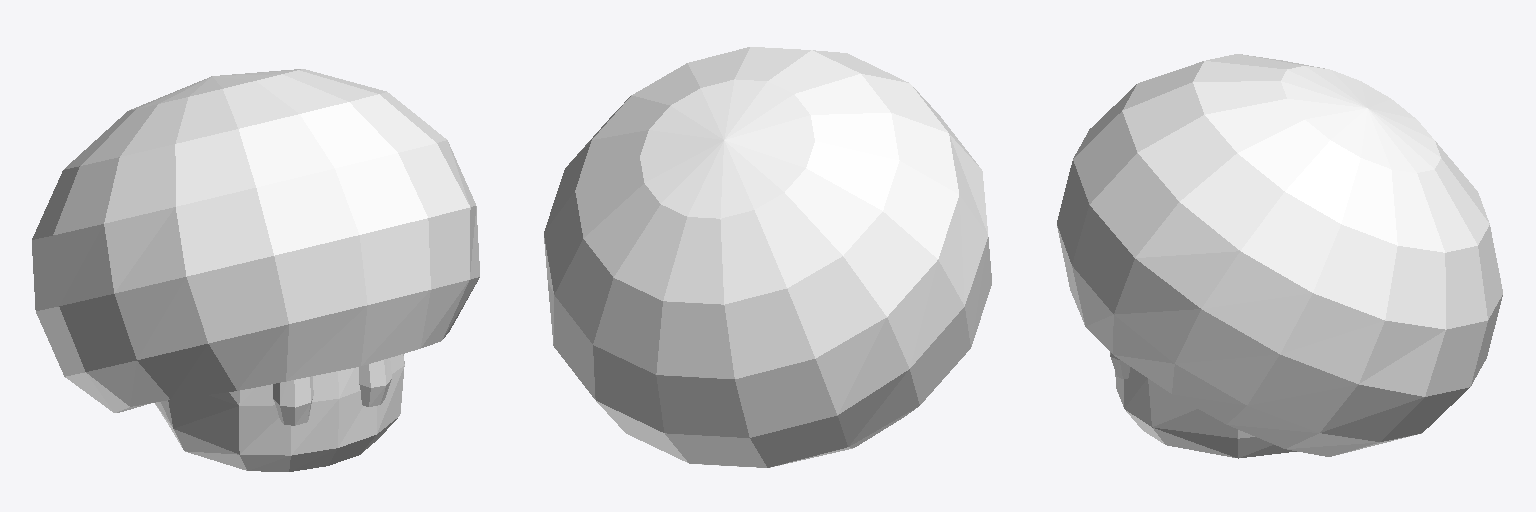
File: big.obj
3 views of the same model, side by side, from view 1: azimuth 30°, elevation 25°; view 2: azimuth 150°, elevation 25°; view 3: azimuth 270°, elevation 25° (orthographic).
Parts seen in each view (by area): view 1: mesh0114; view 2: mesh0114; view 3: mesh0114.
Boxes of the visible parts, <box> form: mesh0114: <box>32,69,479,471</box>; mesh0114: <box>544,47,991,467</box>; mesh0114: <box>1057,54,1502,458</box>.
Bounding box in the file's own units: 63.06 × 53.56 × 61.98.